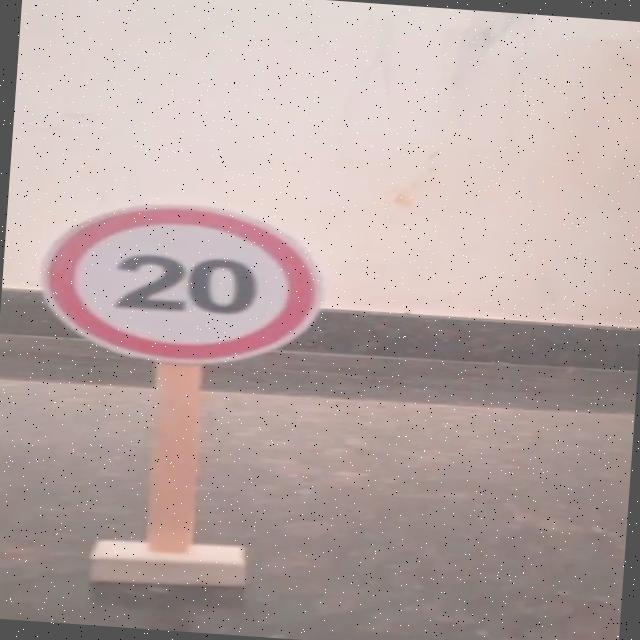Speed20: (22, 189, 340, 380)
